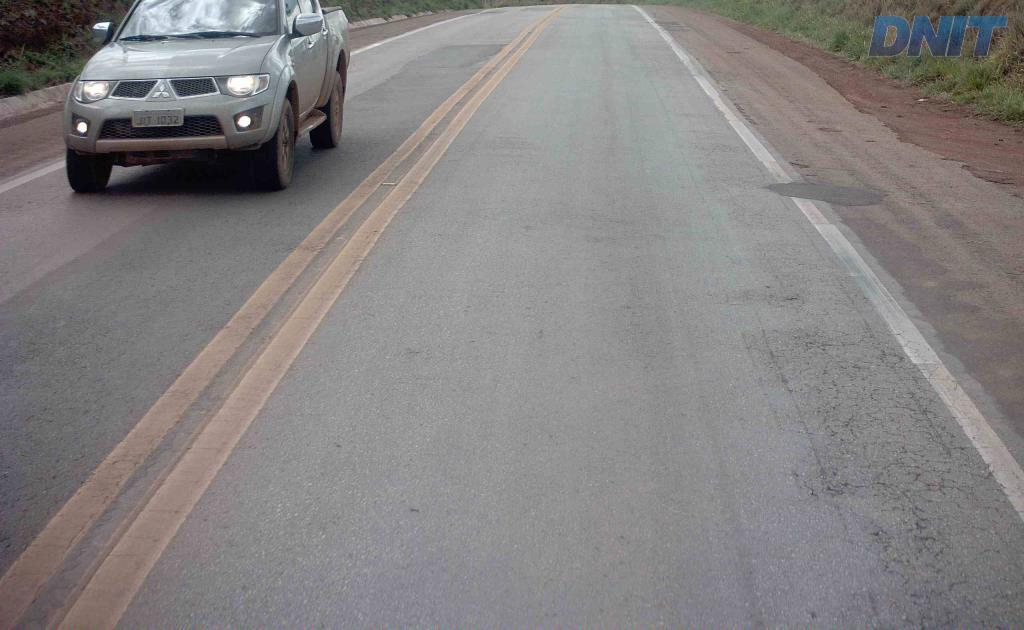crack: (883, 457, 979, 510), (919, 430, 974, 470), (900, 488, 942, 533)
